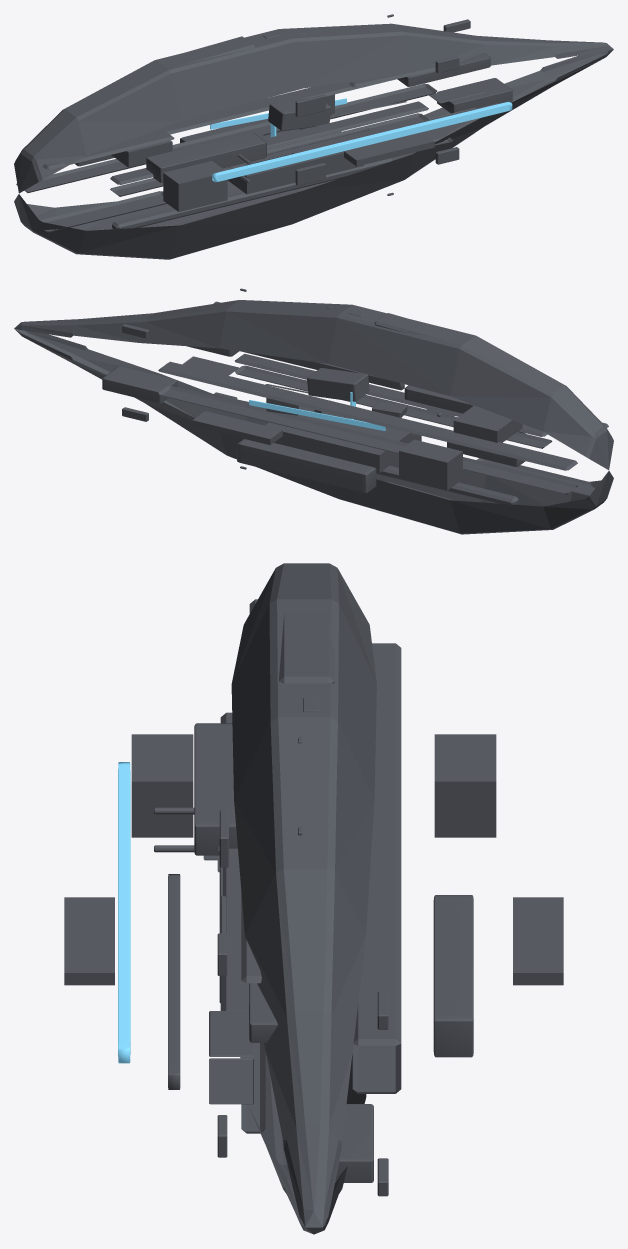
Rendered from hull_smuggler.glb.
3 views of the same model, one above another, from view 1: azimuth 30°, elevation 25°; view 2: azimuth 150°, elevation 25°; view 3: azimuth 270°, elevation 25° (orthographic). The views are drawn at different scales.
Parts seen in each view (by area): view 1: LOD0_HULL_MULTIROLE_MAIN, DET_violet_stripe, DET_salvage_patch, DET_smuggler_hatch, DET_hidden_cargo_bulge, DET_mismatched_panel, DET_cargo_rig, DET_reach_red_stripe, DET_jury_weld; view 2: LOD0_HULL_MULTIROLE_MAIN, DET_cargo_rig, DET_smuggler_hatch, DET_hidden_cargo_bulge, DET_salvage_patch, DET_reach_red_stripe, DET_jury_weld, DET_field_repair, DET_contraband_hatch; view 3: LOD0_HULL_MULTIROLE_MAIN, DET_cargo_rig, DET_salvage_patch, DET_violet_stripe, DET_jury_weld, DET_smuggler_hatch, DET_mismatched_panel.
Part boxes in pixels (<box>): LOD0_HULL_MULTIROLE_MAIN: <box>14,14,613,259</box>; DET_violet_stripe: <box>212,101,512,182</box>; DET_salvage_patch: <box>146,132,266,182</box>; DET_smuggler_hatch: <box>437,78,512,113</box>; DET_hidden_cargo_bulge: <box>268,98,330,131</box>; DET_mismatched_panel: <box>397,53,490,86</box>; DET_cargo_rig: <box>180,119,268,143</box>; DET_reach_red_stripe: <box>210,98,346,129</box>; DET_jury_weld: <box>292,103,500,154</box>; LOD0_HULL_MULTIROLE_MAIN: <box>14,288,613,534</box>; DET_cargo_rig: <box>237,439,376,493</box>; DET_smuggler_hatch: <box>102,366,177,403</box>; DET_hidden_cargo_bulge: <box>307,368,369,401</box>; DET_salvage_patch: <box>404,385,473,413</box>; DET_reach_red_stripe: <box>249,400,385,430</box>; DET_jury_weld: <box>244,352,404,390</box>; DET_field_repair: <box>447,442,525,466</box>; DET_contraband_hatch: <box>372,401,407,417</box>; LOD0_HULL_MULTIROLE_MAIN: <box>64,563,563,1234</box>; DET_cargo_rig: <box>433,895,473,1057</box>; DET_salvage_patch: <box>194,723,237,855</box>; DET_violet_stripe: <box>118,762,130,1063</box>; DET_jury_weld: <box>168,874,180,1089</box>; DET_smuggler_hatch: <box>335,1104,373,1182</box>; DET_mismatched_panel: <box>249,983,277,1042</box>.
Bounding box in the file's own units: 12.18 × 3.78 × 4.45.
